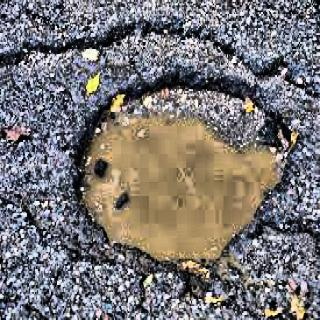crack: (135, 14, 263, 58), (0, 36, 132, 68)
pothole: (54, 51, 296, 293)
